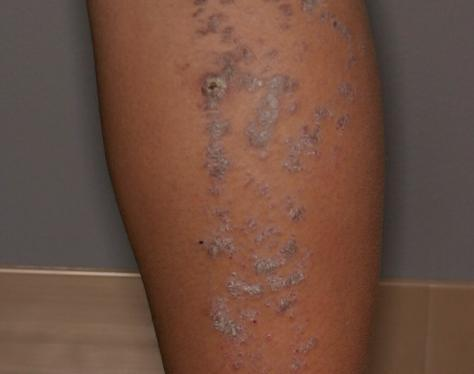hypertrophic lichen planus: (169, 13, 351, 367)
